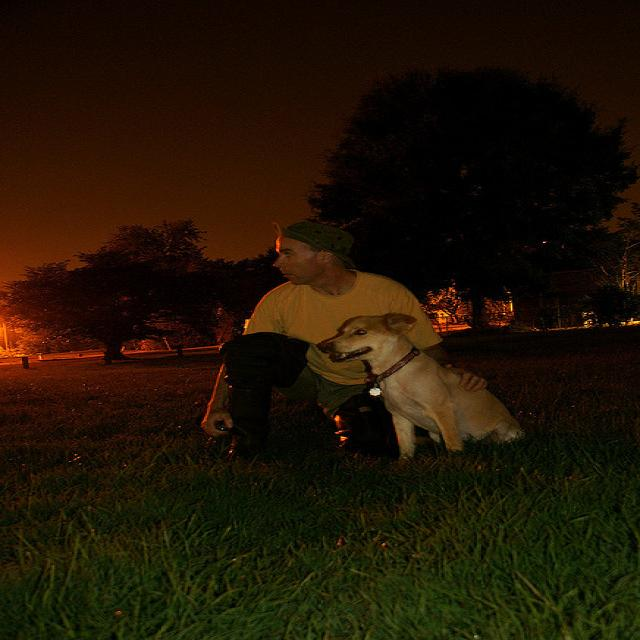People: (162, 199, 406, 486)
dog: (333, 307, 545, 504)
